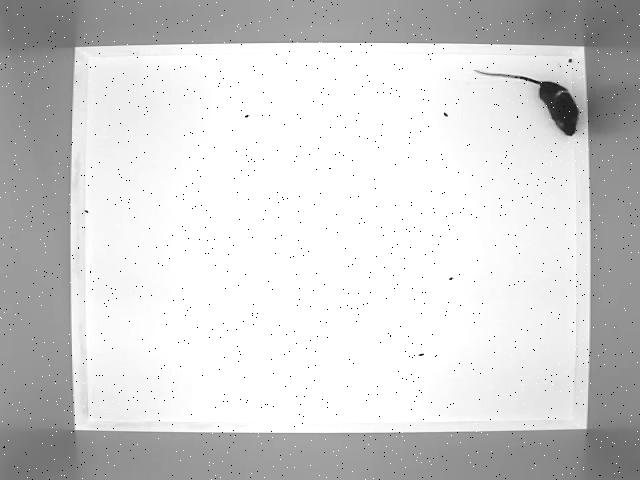Tikus: (467, 63, 593, 137)
